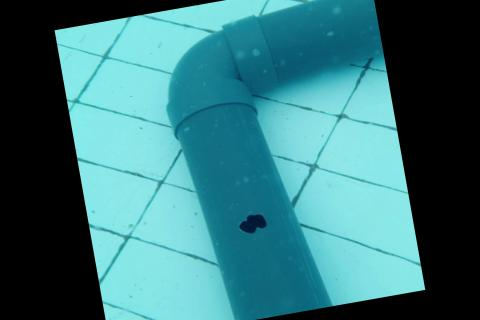kebocoran: (235, 211, 269, 235)
